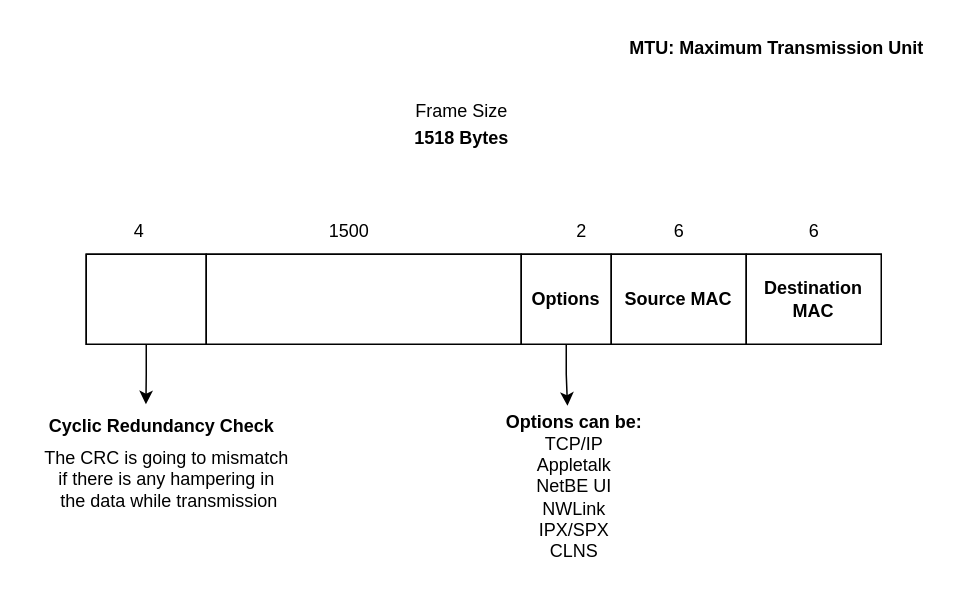
Some shapes in this 959 by 594 pixel diagram are drawn without their labels. Here are the shapes that lost their labels. From the top down, the box of each, then its label:
(85, 253, 206, 344): CRC
(205, 253, 521, 344): DATA
